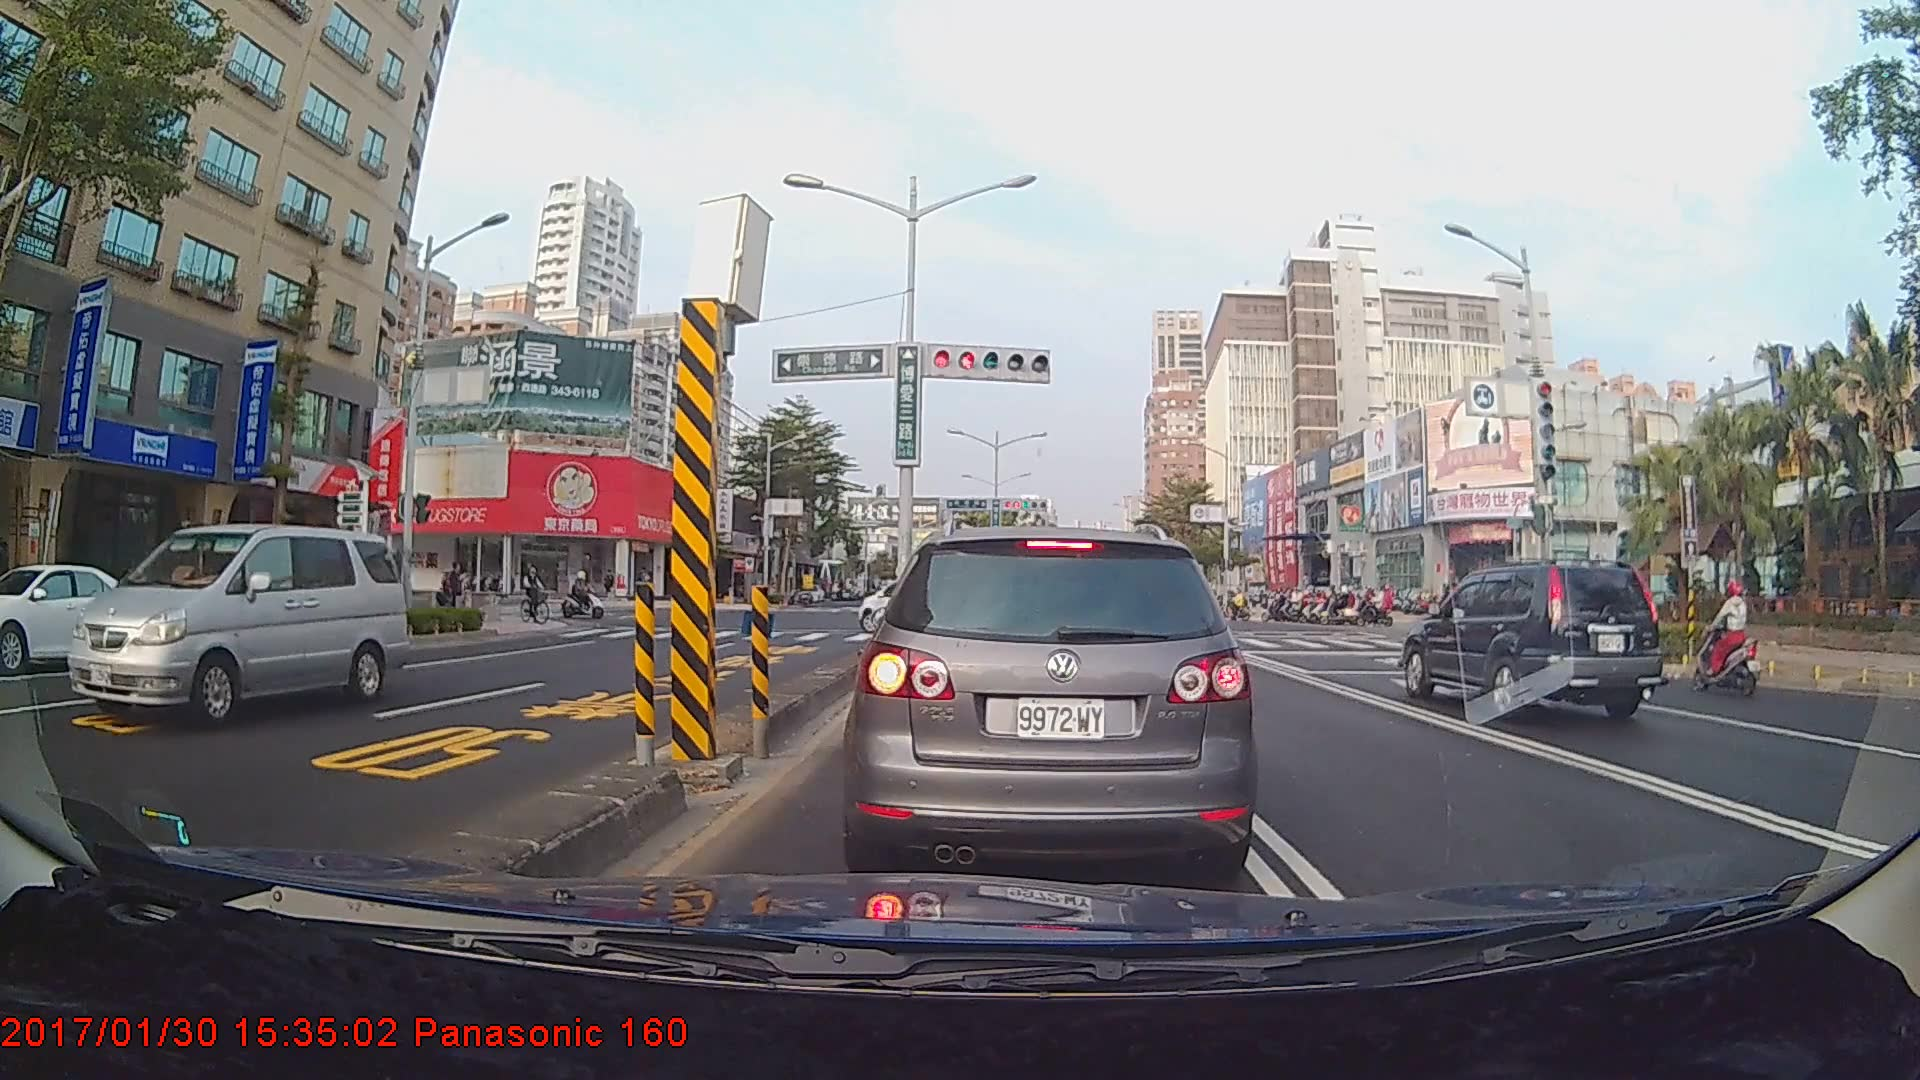rider: (1695, 566, 1769, 700), (562, 566, 609, 619), (522, 566, 551, 627)
vehicle: (843, 517, 1255, 881), (59, 520, 402, 732), (1397, 556, 1667, 727), (0, 562, 159, 676)
